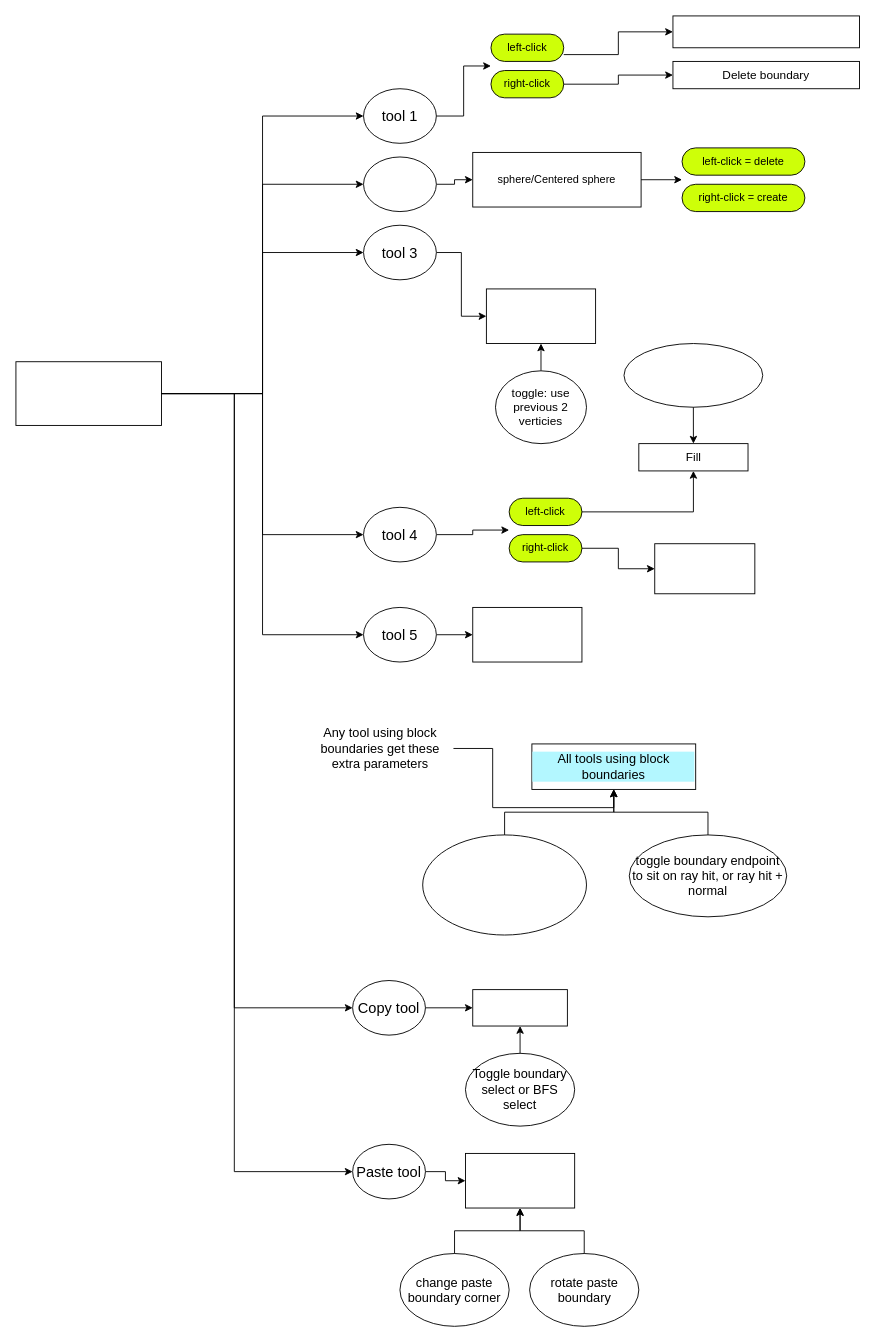
The diagram is 875 pixels wide and 1342 high, and some of its shapes have lost their labels. The centre of each missing label's shape, as x and y in pixels:
copy blocks: (x=519, y=1007)
fill hit block with air: (x=704, y=568)
Paste / Additive paste: (x=520, y=1180)
set triangle: (x=540, y=316)
Set Wall/Hollow/Default boundary: (x=765, y=31)
simple line: (x=527, y=634)
Toggle plane mode (lock endpoint X Y or Z to make boundary flat): (x=504, y=884)
toggle: fill hit+nomal block or fill hit block: (x=693, y=375)
tool 2: (x=399, y=184)
Xbuilders block tools: (x=88, y=393)
